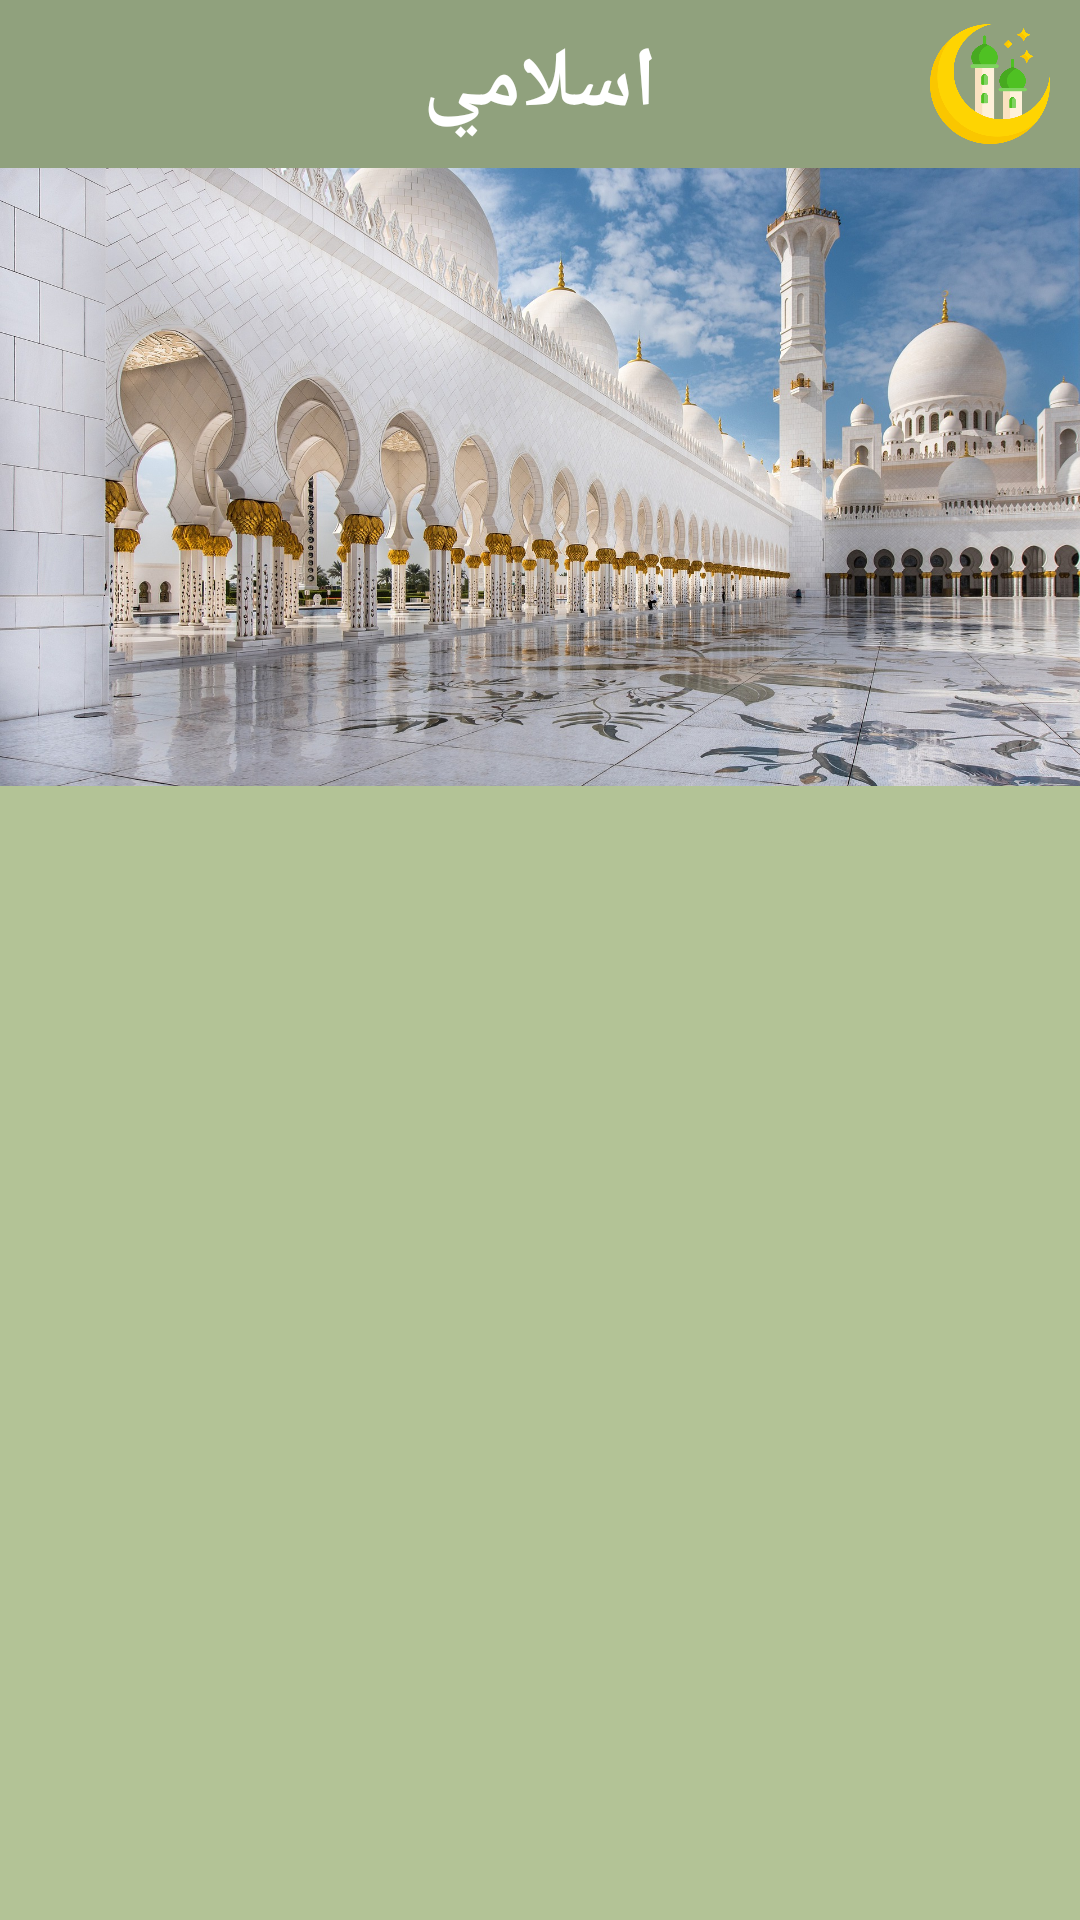

Icons on this 1080px x 1920px Android screen, each with its box as [left=x1, top=y1, right=x2, bottom=y2]:
moon: [left=930, top=24, right=1050, bottom=144]
